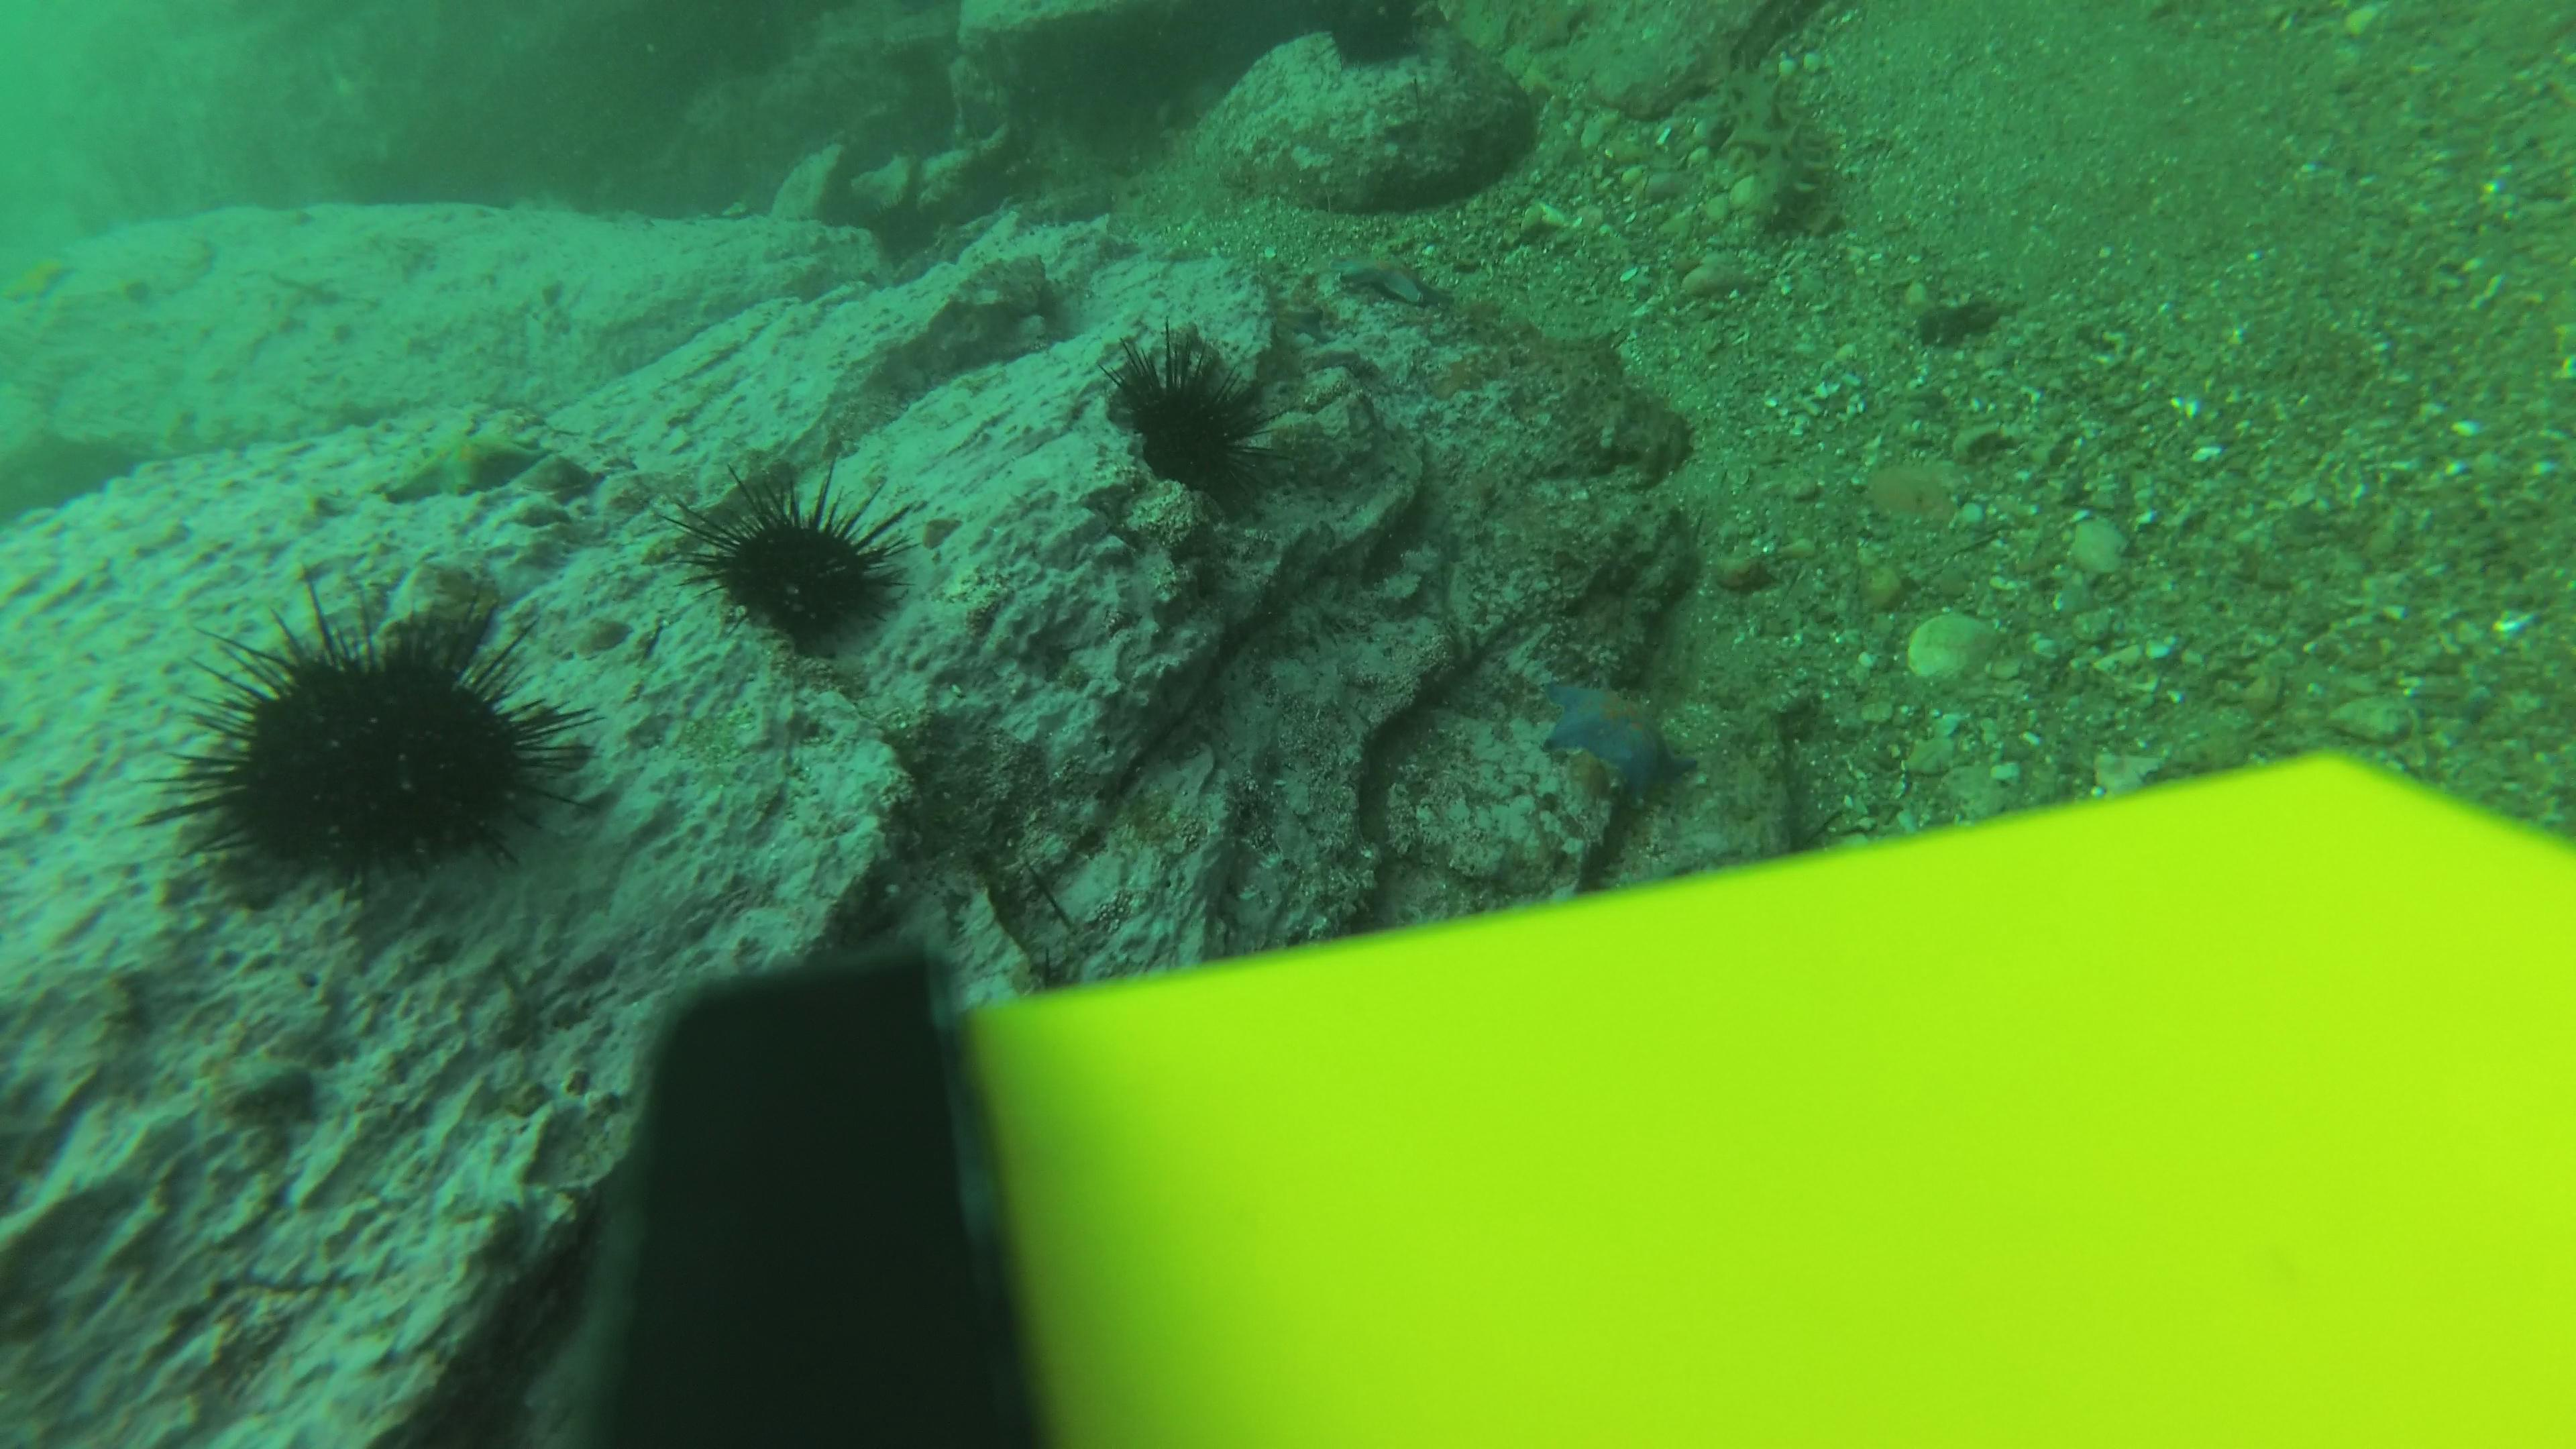urchin: (198, 602, 587, 876), (655, 435, 936, 642), (1102, 320, 1293, 501), (1322, 0, 1428, 74)
